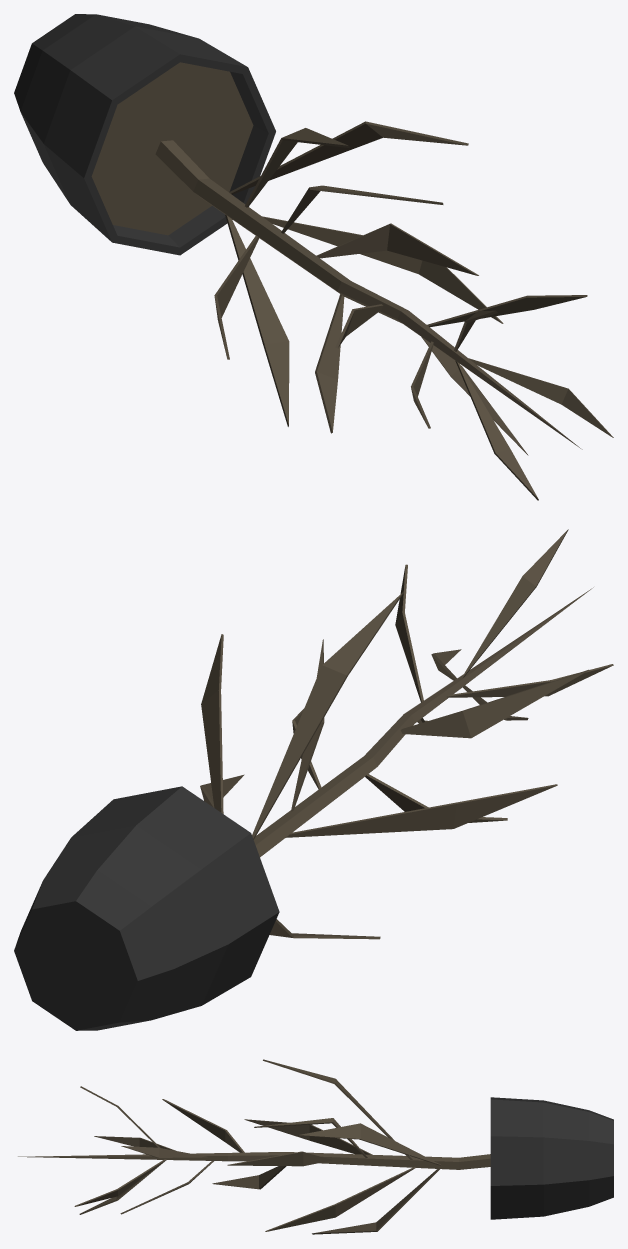
The model's file is houseplant-8.obj.
3 renders of one model, top to bottom at view 1: azimuth 30°, elevation 25°; view 2: azimuth 150°, elevation 25°; view 3: azimuth 270°, elevation 25°, orthographic. The views are drawn at different scales.
Parts seen in each view (by area): view 1: houseplant-8; view 2: houseplant-8; view 3: houseplant-8.
Boxes of the visible parts, <box> form: houseplant-8: <box>14,14,613,500</box>; houseplant-8: <box>14,529,613,1030</box>; houseplant-8: <box>18,1059,613,1234</box>.
Bounding box in the file's own units: 11.96 × 11.96 × 36.
